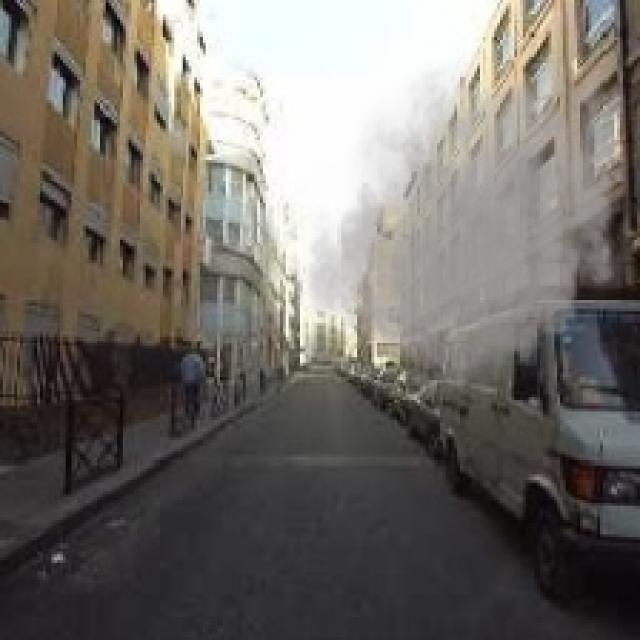Smoke: (294, 48, 637, 406)
